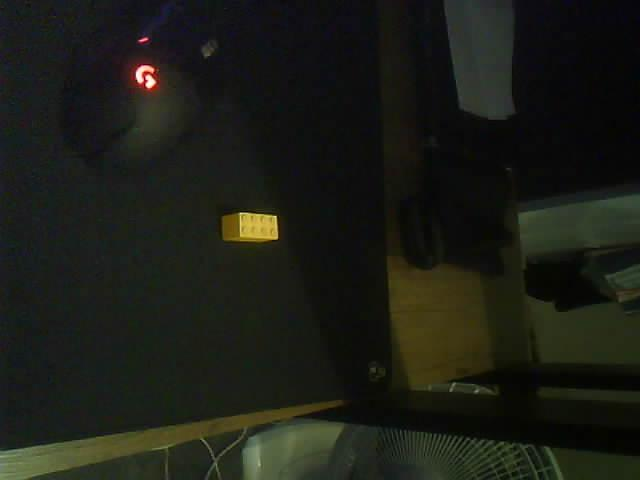lego: (221, 211, 279, 242)
